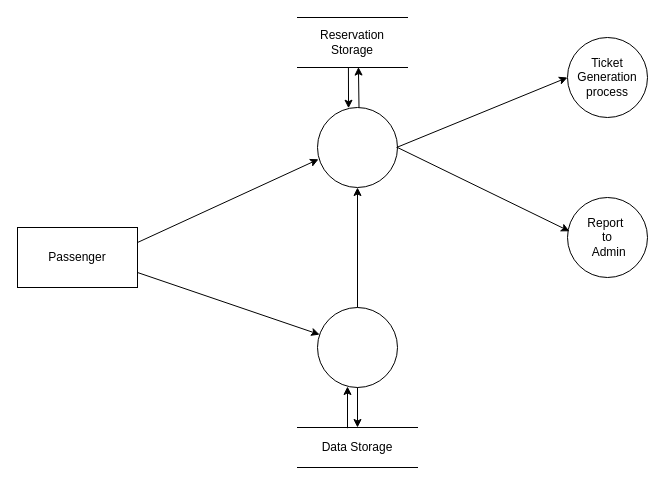
This 665x485 diagram has some shape labels left out. The centre of each missing label's shape, as x and y in pixels:
"Enquiry" belongs at point (357, 347).
"Reservation Process" belongs at point (357, 147).
